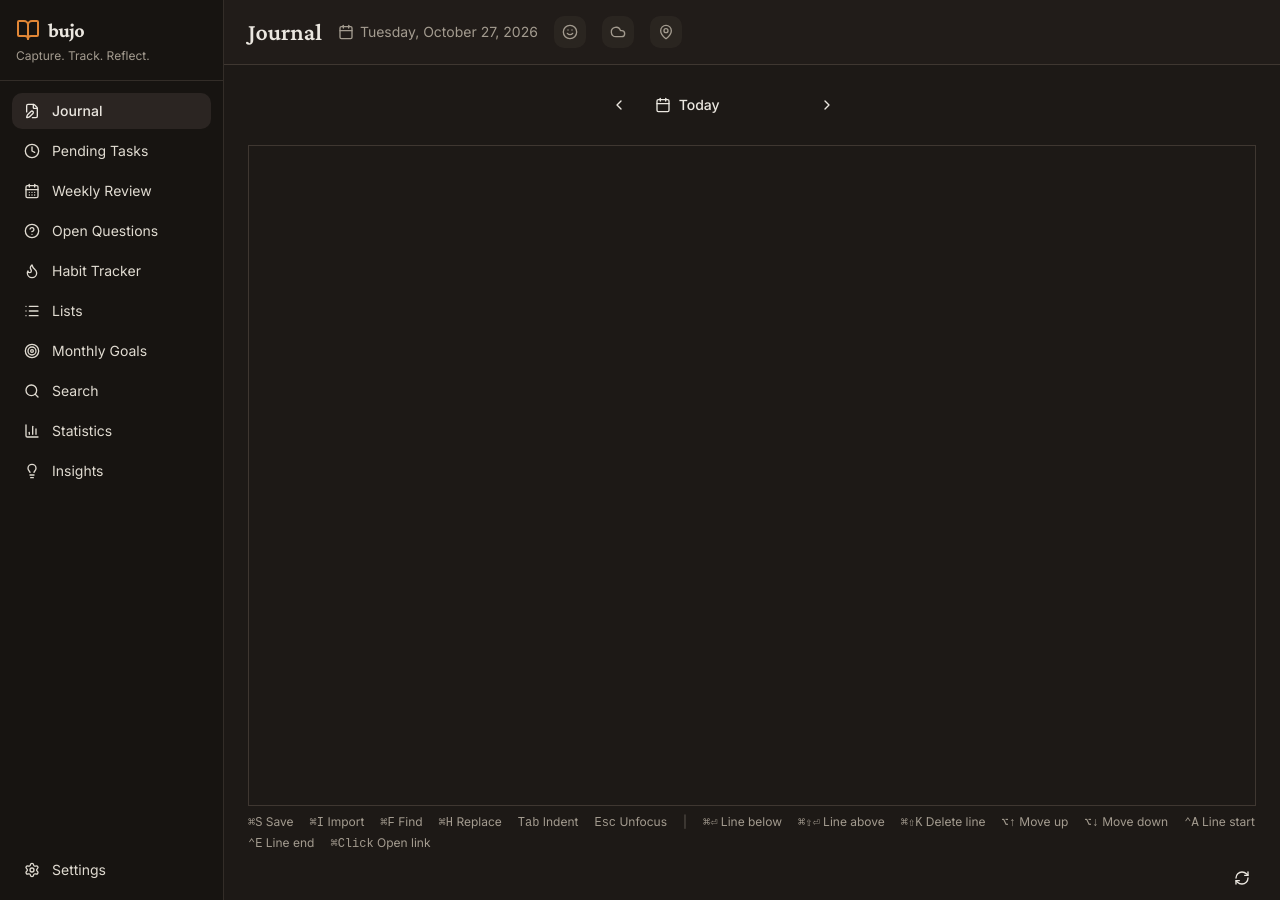
Scenario: App - Search Navigation › navigates to journal view when double-clicking a search result
The image size is (1280, 900).
Navigate to search view
Click the button "Search": (112, 391) x1=12 y1=373 x2=211 y2=409
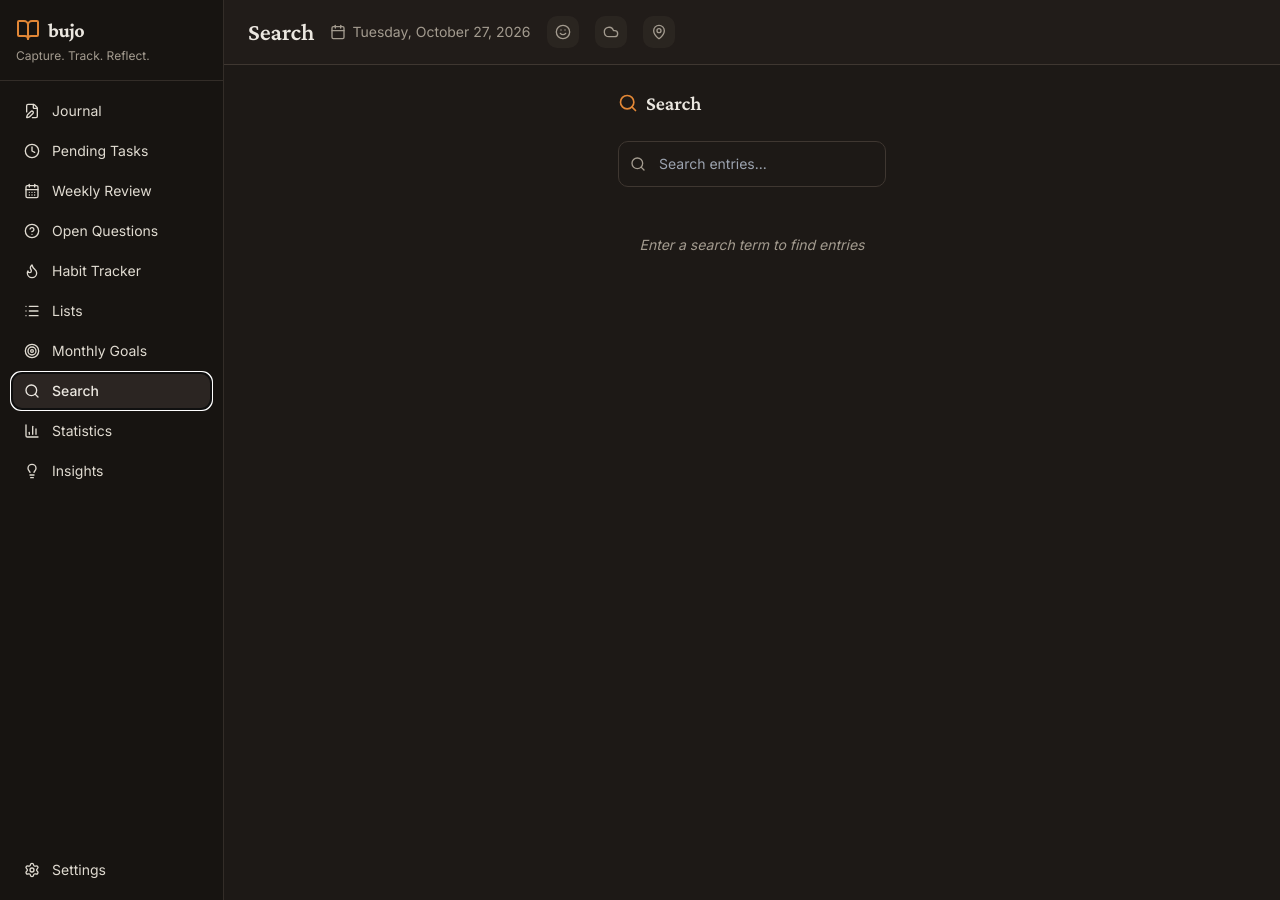
Expected: the field with placeholder "Search entries..." is shown
Type a search query
In the field with placeholder "Search entries...": (752, 164) x1=618 y1=141 x2=886 y2=187, type "test"
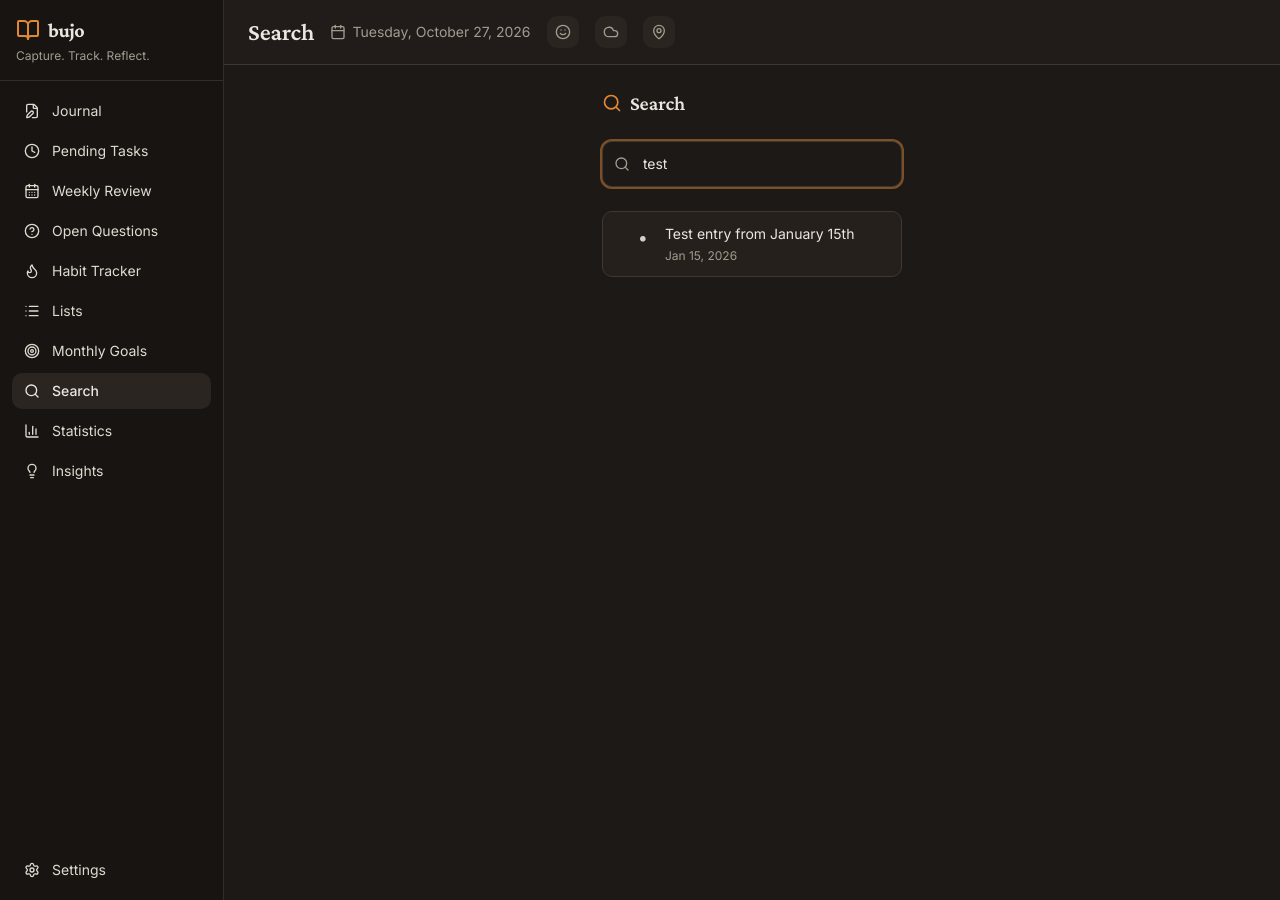
Expected: the text "Test entry from January 15th" is shown, x1=665 y1=225 x2=854 y2=242
Double-click the text "Test entry from January 15th": (744, 244) x1=633 y1=224 x2=854 y2=263
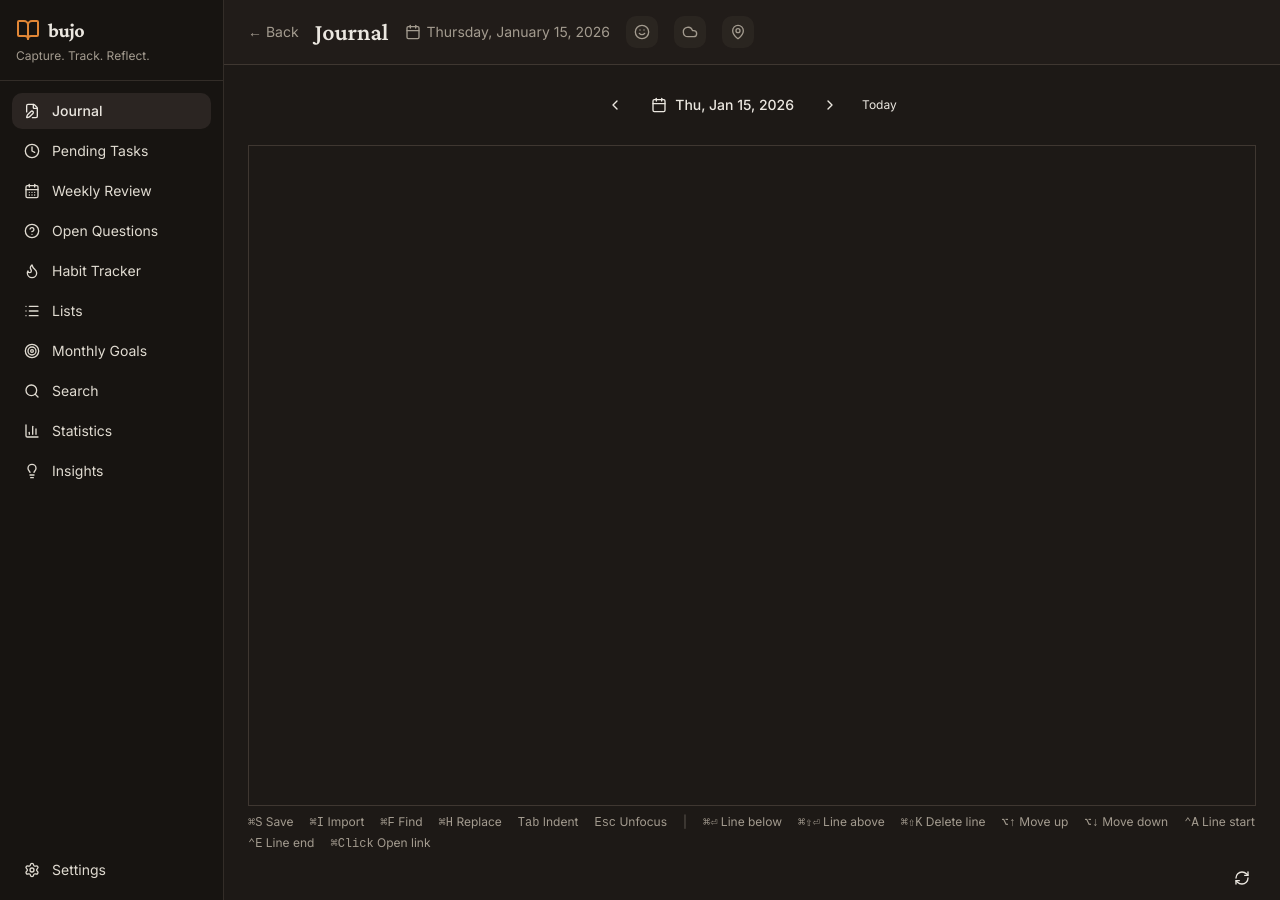
Expected: the field is shown, x1=265 y1=146 x2=1255 y2=805
